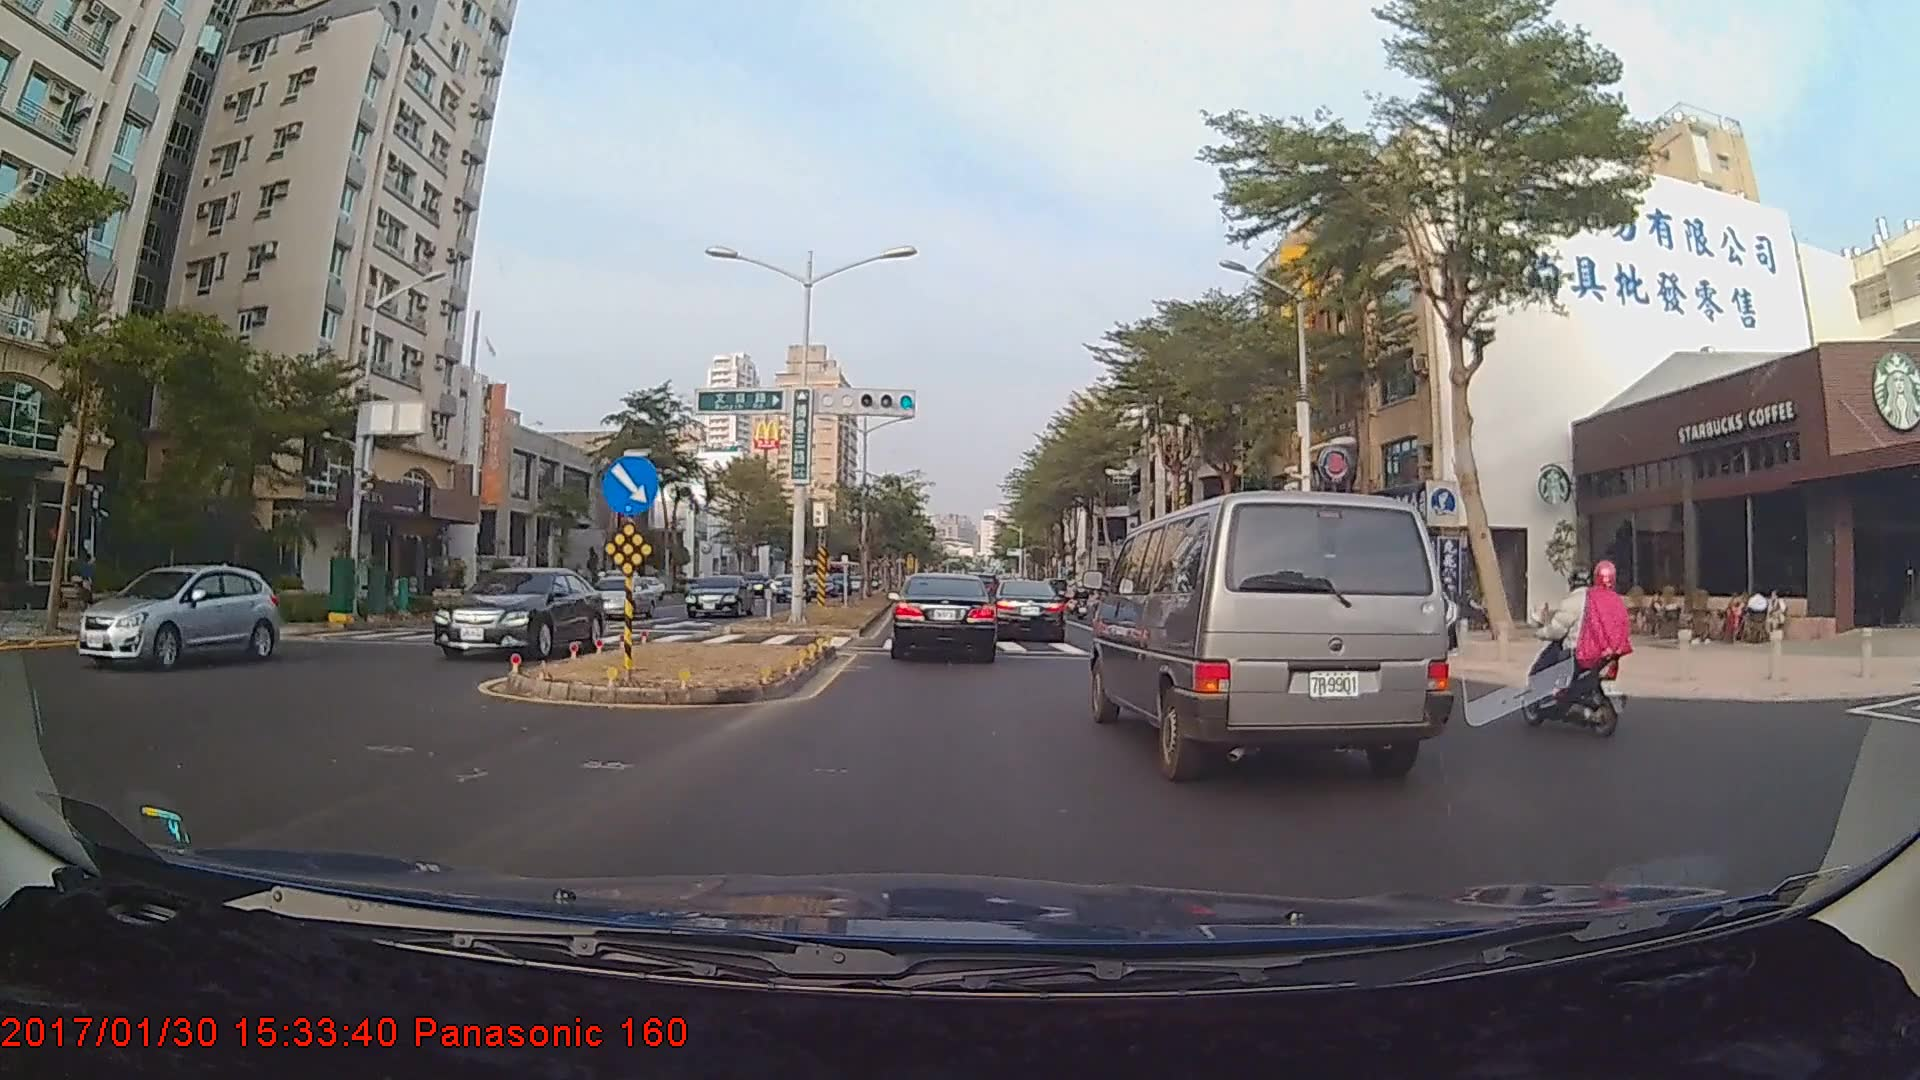rider: (1520, 558, 1646, 743)
vehicle: (1096, 483, 1456, 781), (74, 561, 277, 672), (433, 564, 604, 661), (889, 572, 1000, 663), (990, 577, 1067, 645), (681, 572, 751, 619), (585, 575, 656, 621)
